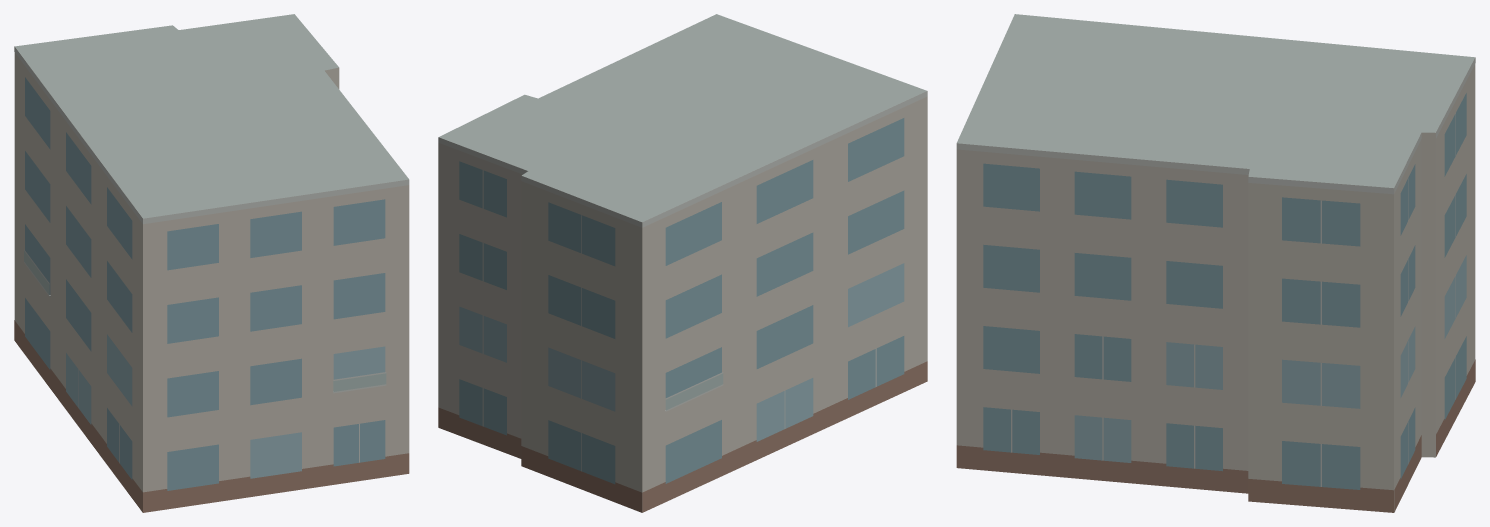
The model's file is survey-upis-32701582.glb.
3 views of the same model, side by side, from view 1: azimuth 30°, elevation 25°; view 2: azimuth 150°, elevation 25°; view 3: azimuth 270°, elevation 25° (orthographic). The views are drawn at different scales.
Parts seen in each view (by area): view 1: survey-upis-32701582.tmp; view 2: survey-upis-32701582.tmp; view 3: survey-upis-32701582.tmp.
Boxes of the visible parts, left/top/right/bottom form: survey-upis-32701582.tmp: left=14, top=14, right=409, bottom=512; survey-upis-32701582.tmp: left=438, top=14, right=927, bottom=512; survey-upis-32701582.tmp: left=956, top=14, right=1475, bottom=512.
Size of the model in its own units: 14.91 by 12.95 by 18.77.
